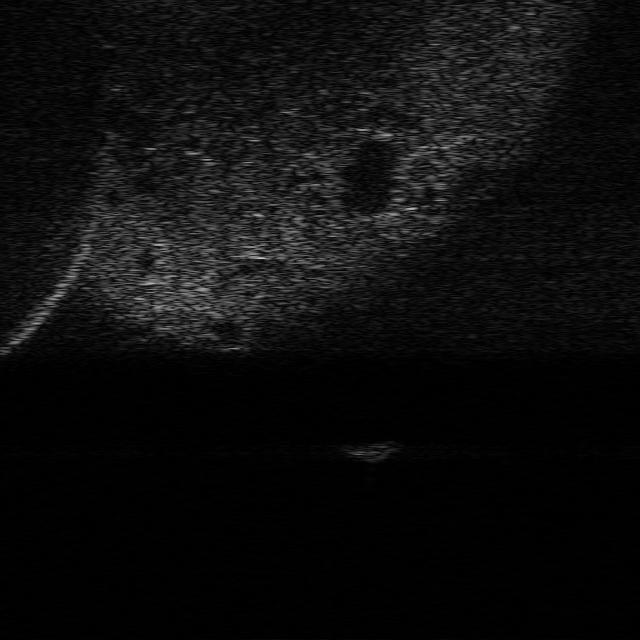cube: (342, 436, 407, 466)
